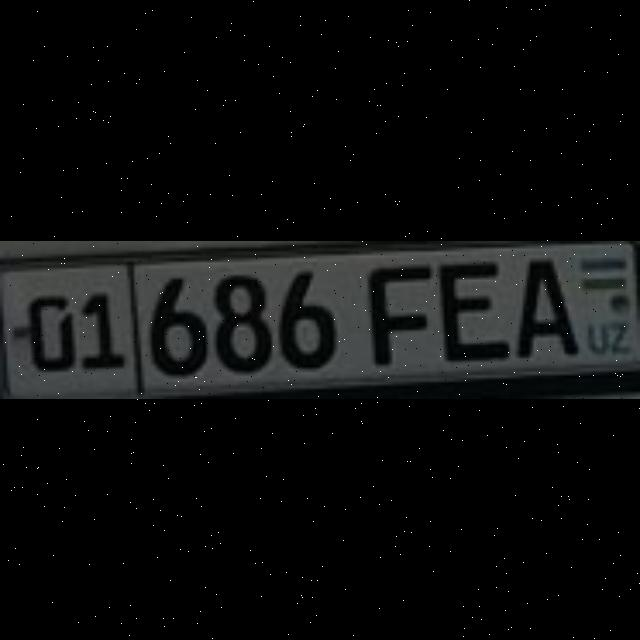0: (24, 292, 72, 368)
1: (76, 290, 120, 368)
6: (144, 272, 206, 376), (276, 268, 334, 368)
8: (210, 272, 268, 372)
A: (513, 255, 575, 355)
E: (434, 258, 506, 358)
F: (364, 262, 430, 364)
